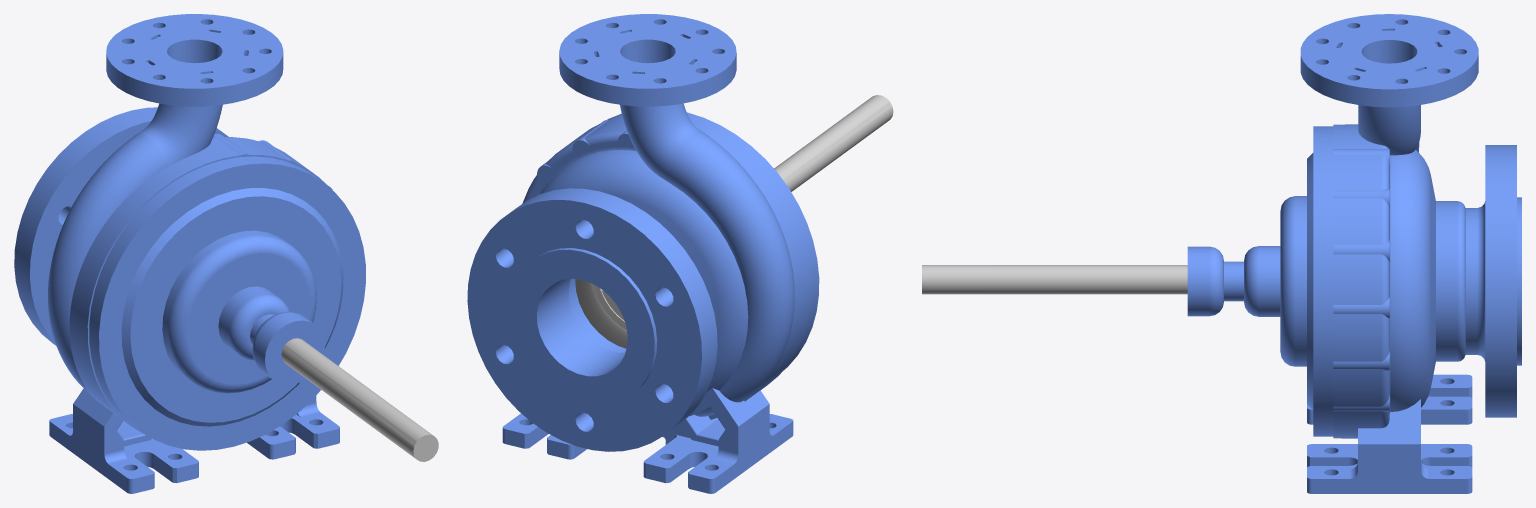
Rendered from MainModel.fbx.
3 renders of one model, left to right at view 1: azimuth 30°, elevation 25°; view 2: azimuth 150°, elevation 25°; view 3: azimuth 270°, elevation 25°, orthographic.
Visible parts, largest first — view 1: Pump_body1, Pump_propeller; view 2: Pump_body1, Pump_propeller; view 3: Pump_body1, Pump_propeller.
Boxes of the visible parts, bbox=[...] form: Pump_body1: bbox=[14, 14, 365, 493]; Pump_propeller: bbox=[281, 338, 438, 461]; Pump_body1: bbox=[467, 14, 819, 493]; Pump_propeller: bbox=[575, 95, 893, 348]; Pump_body1: bbox=[1187, 14, 1521, 493]; Pump_propeller: bbox=[922, 265, 1187, 294].
Size of the model in its own units: 7.71 by 10.25 by 14.28.
